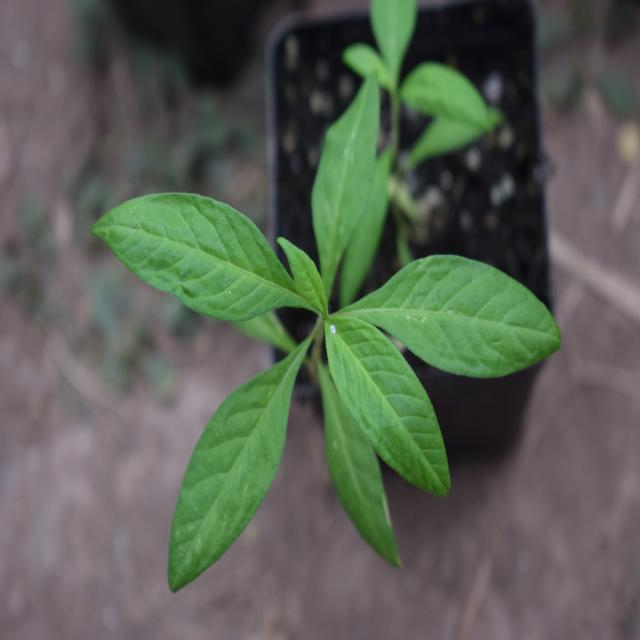white_smart_weed: (98, 121, 548, 584)
